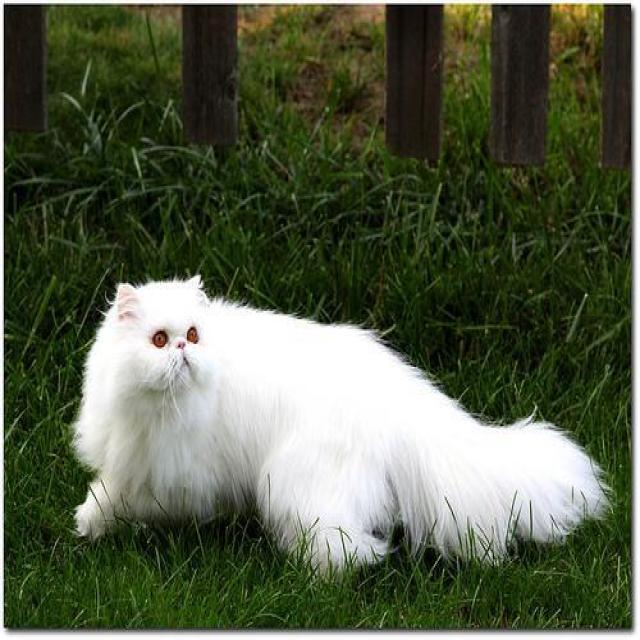cat: (78, 273, 607, 581)
